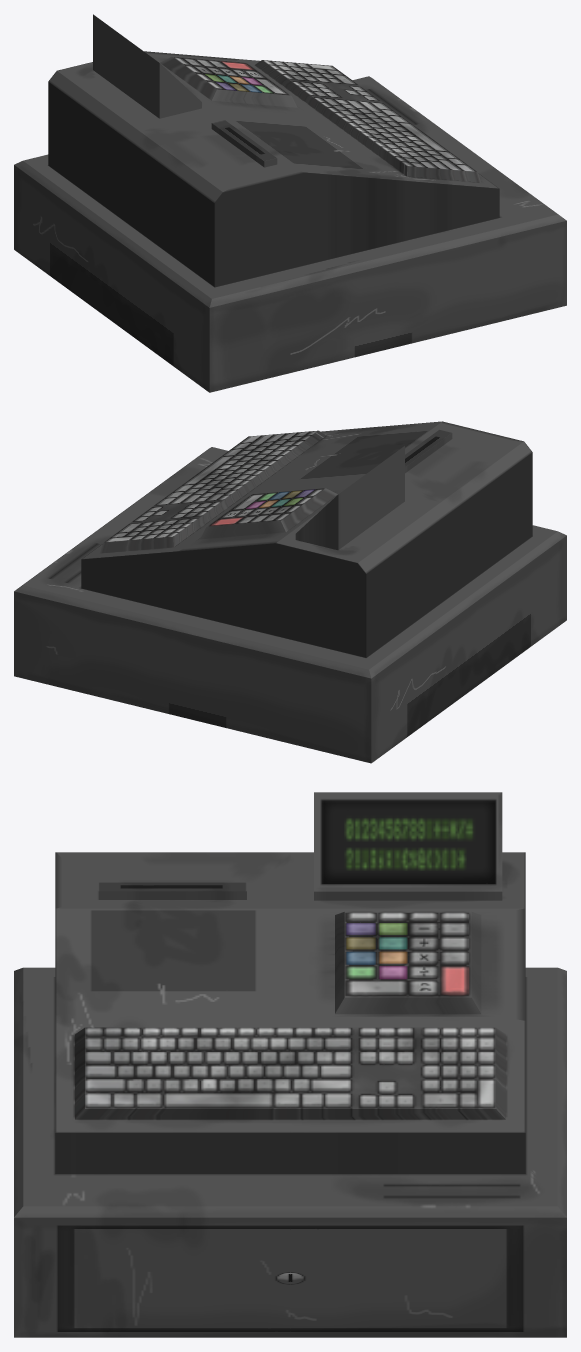
File: CashRegister.fbx
3 views of the same model, one above another, from view 1: azimuth 30°, elevation 25°; view 2: azimuth 150°, elevation 25°; view 3: azimuth 270°, elevation 25° (orthographic). The views are drawn at different scales.
Parts seen in each view (by area): view 1: Cube; view 2: Cube; view 3: Cube.
Part boxes in pixels (bbox=[...]): Cube: bbox=[14, 14, 566, 392]; Cube: bbox=[14, 421, 566, 763]; Cube: bbox=[14, 792, 566, 1337].
Size of the model in its own units: 42.2 by 26.92 by 40.
Materials: 1 (1 with a texture image).
